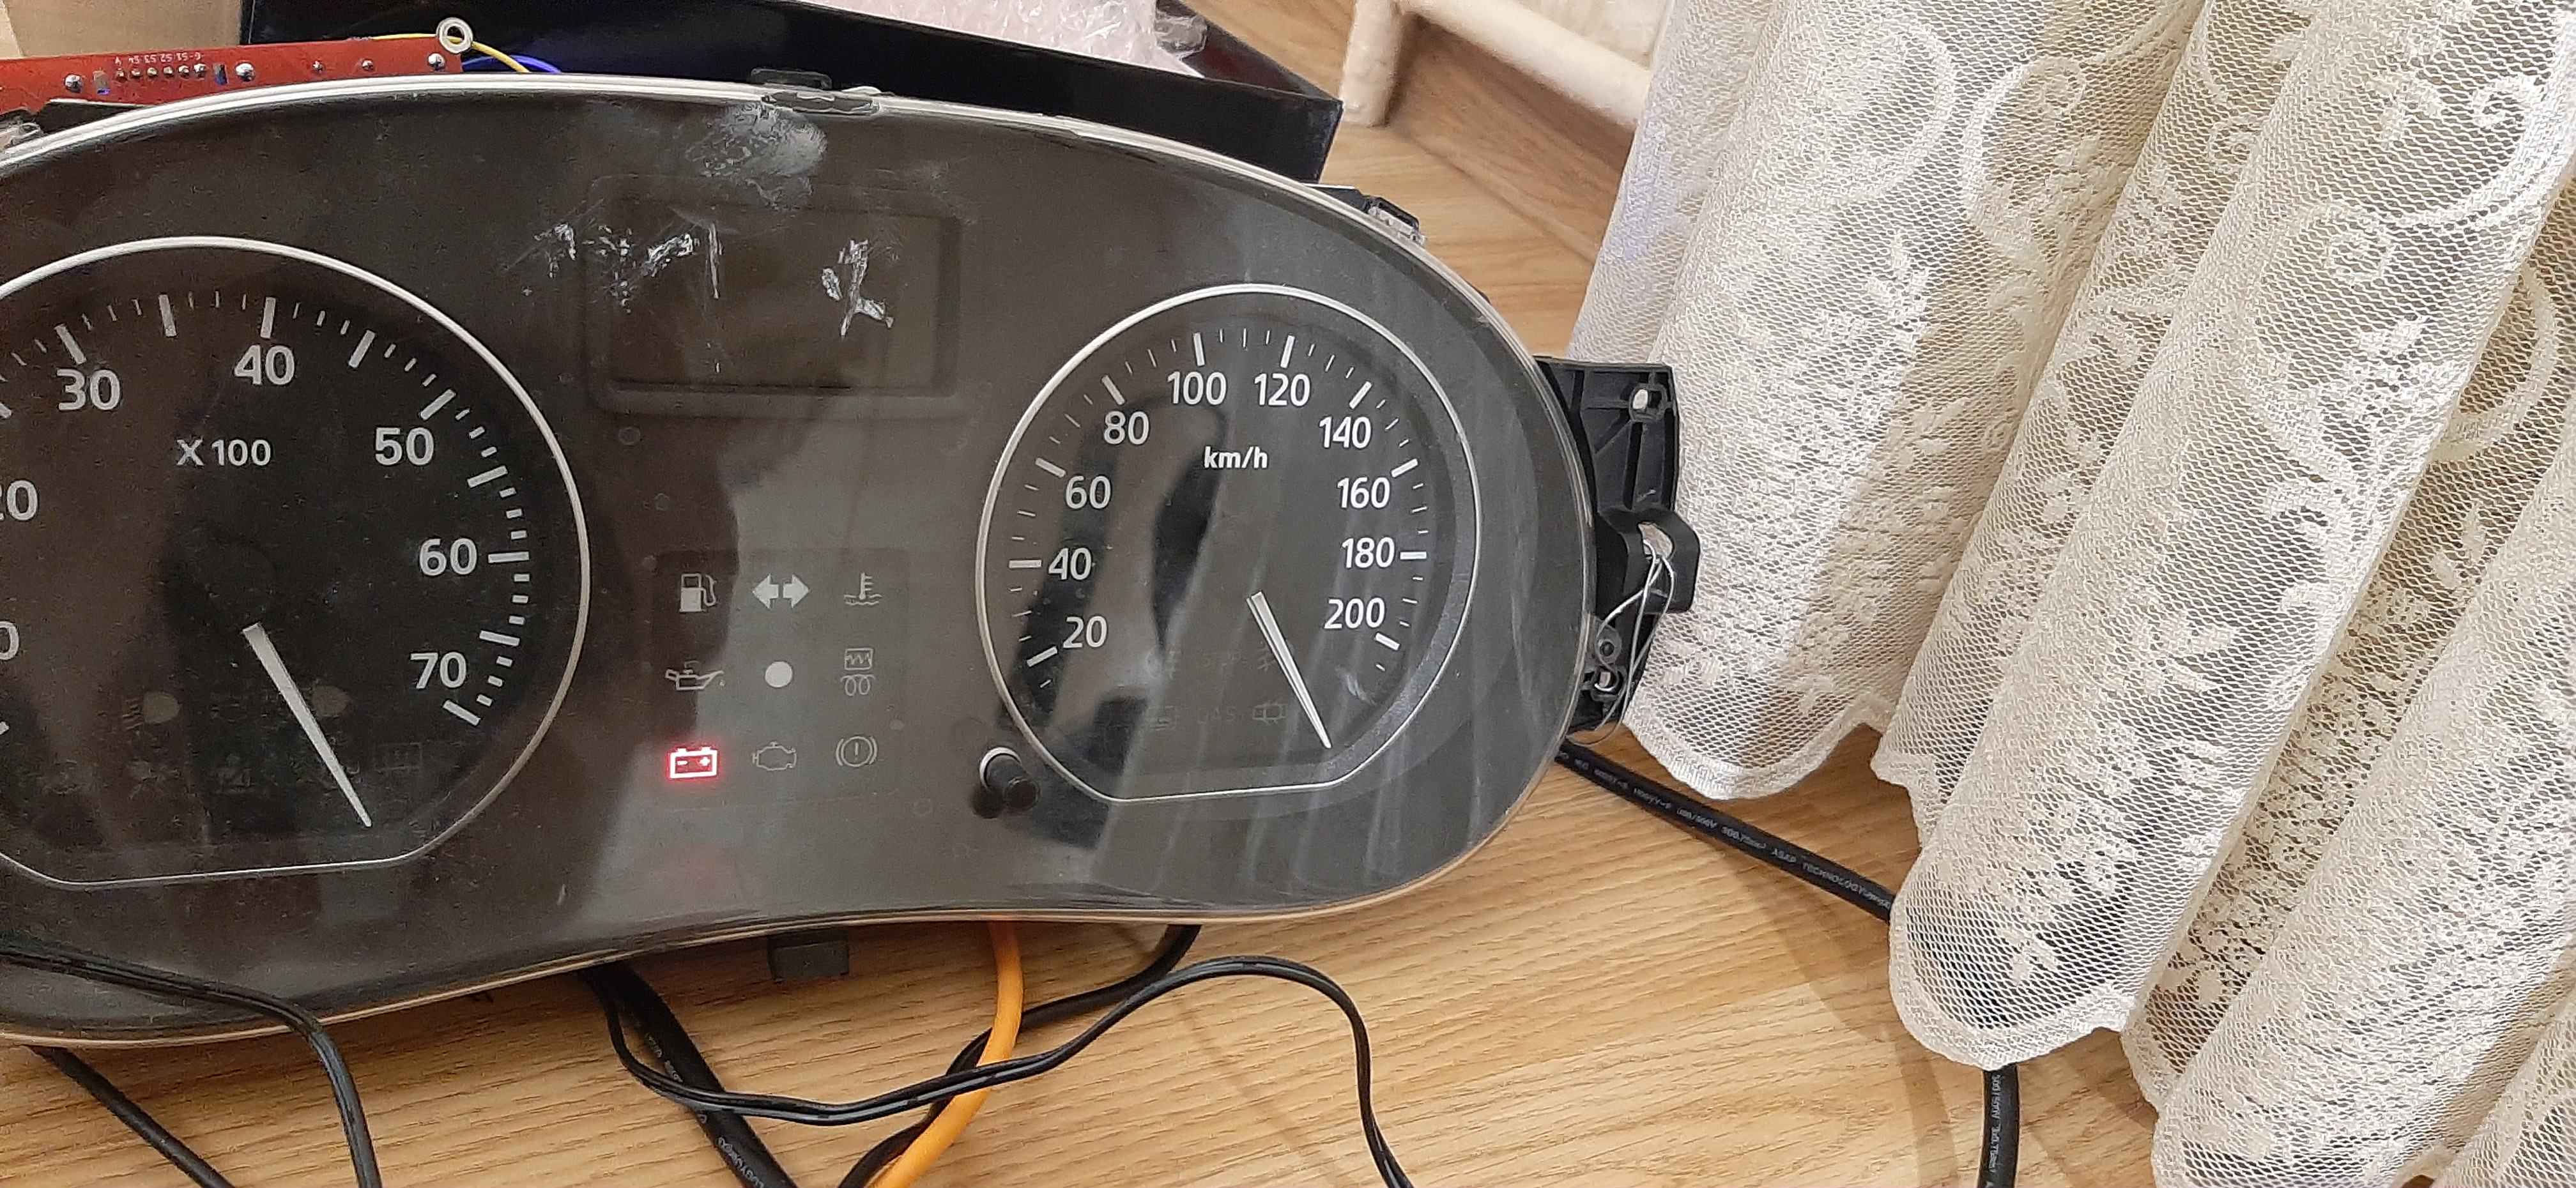accomulator17: (664, 743, 724, 782)
